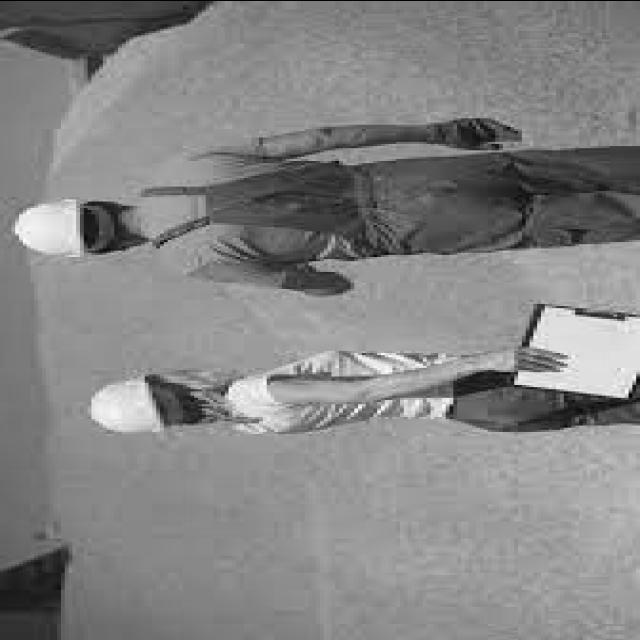construction helmet: (15, 196, 118, 256), (88, 375, 190, 435)
